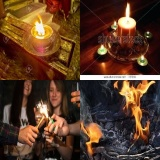fire: (114, 81, 159, 144), (80, 120, 103, 155), (34, 19, 45, 36), (124, 3, 132, 23), (39, 106, 49, 119)
